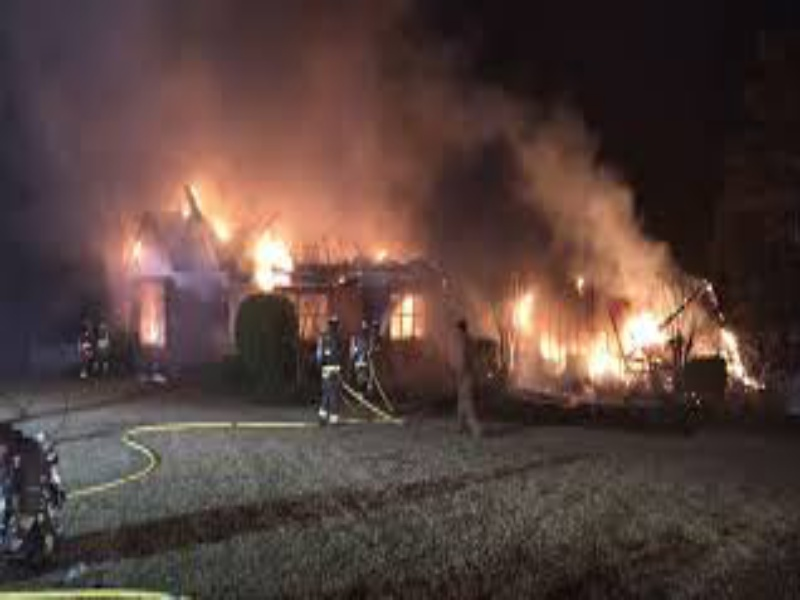fire: (501, 273, 750, 388), (178, 188, 297, 288)
